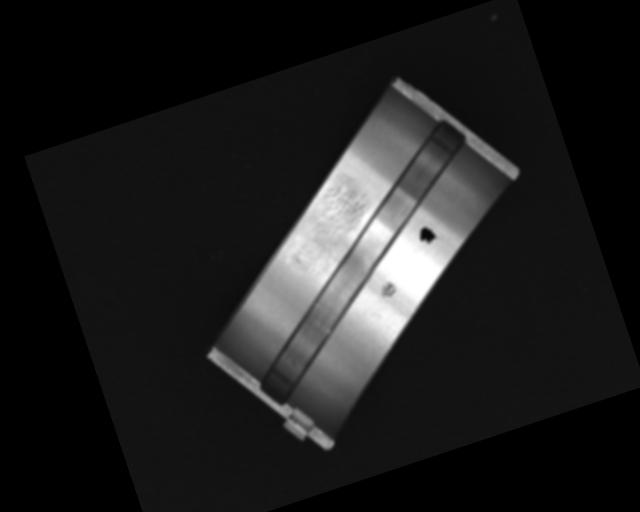blot: (415, 223, 441, 248)
bruise: (377, 279, 400, 301)
gap: (200, 117, 520, 408)
scratch: (274, 179, 384, 283)
